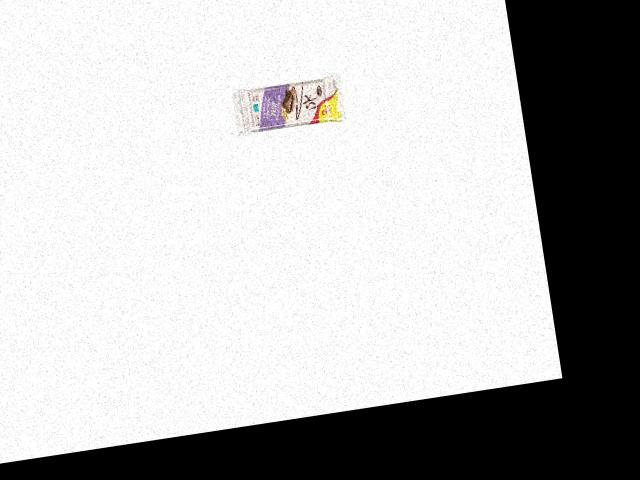chocolate: (229, 68, 350, 140)
